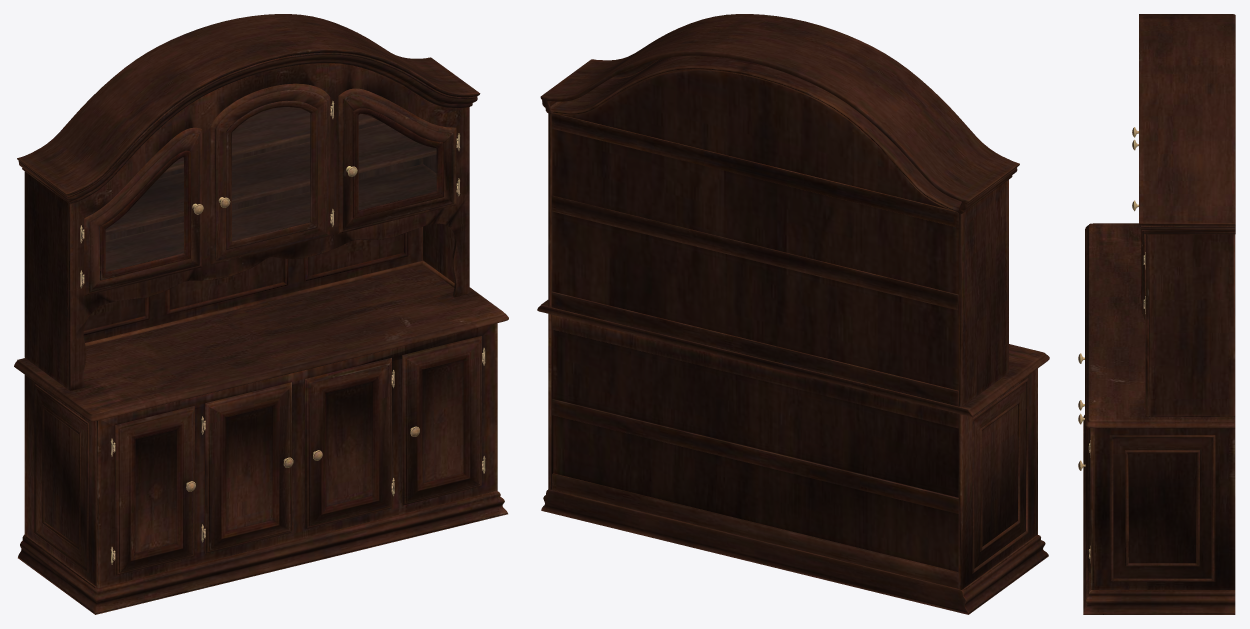
The model's file is wardrobe-vintage.b455ba06.glb.
3 views of the same model, side by side, from view 1: azimuth 30°, elevation 25°; view 2: azimuth 150°, elevation 25°; view 3: azimuth 270°, elevation 25° (orthographic). The views are drawn at different scales.
Visible parts, largest first — view 1: model; view 2: model; view 3: model.
Boxes of the visible parts, bbox=[...] form: model: bbox=[14, 14, 508, 614]; model: bbox=[537, 14, 1049, 614]; model: bbox=[1078, 14, 1235, 614].
Bounding box in the file's own units: 2.02 × 2.24 × 0.6698.
Materials: 3 (2 with a texture image).
